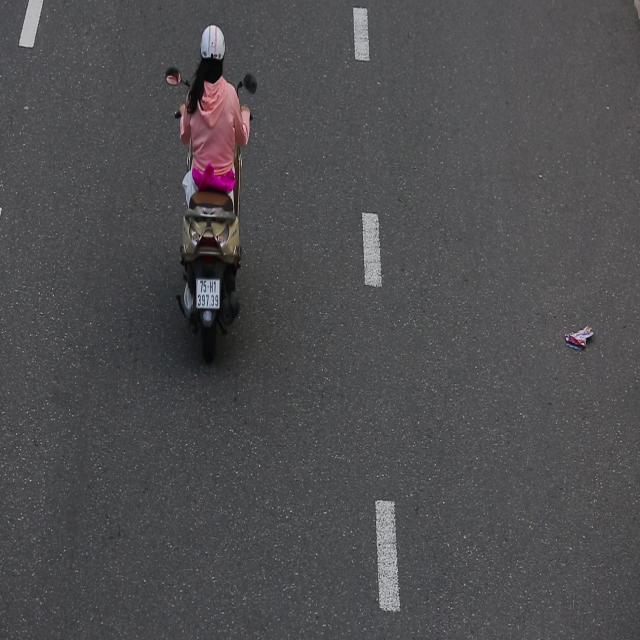motorbike: (162, 16, 262, 371)
